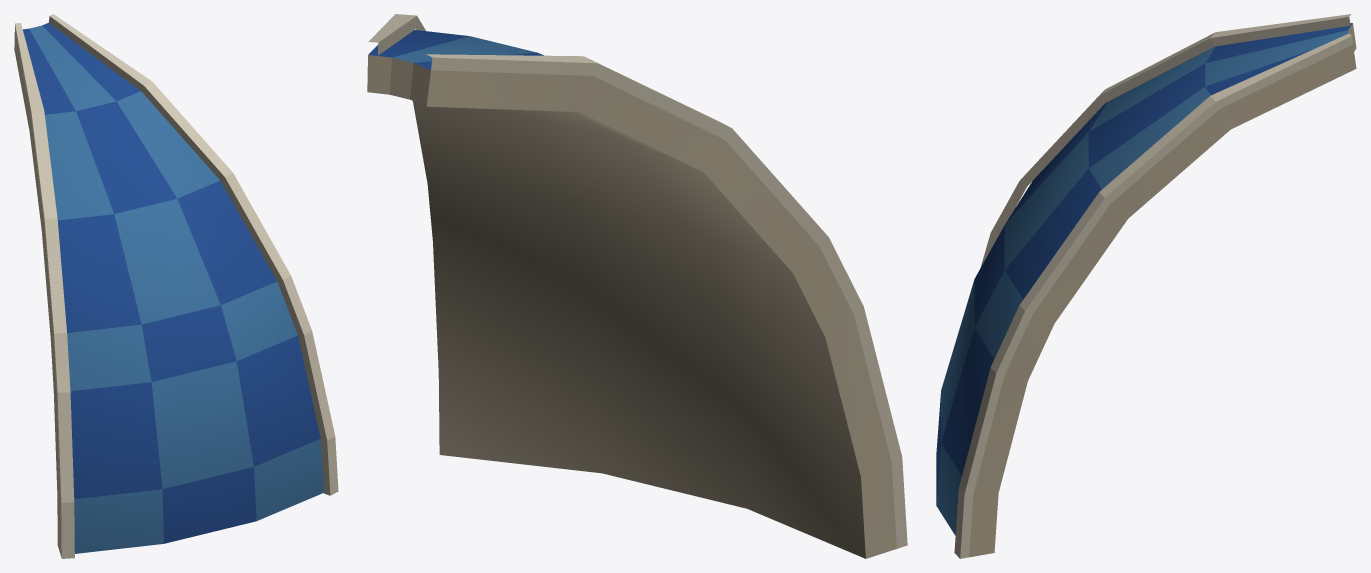
Rendered from dome.panel_8.blue.glb.
3 views of the same model, side by side, from view 1: azimuth 30°, elevation 25°; view 2: azimuth 150°, elevation 25°; view 3: azimuth 270°, elevation 25° (orthographic). The views are drawn at different scales.
Parts seen in each view (by area): view 1: dome_panel_8_blue; view 2: dome_panel_8_blue; view 3: dome_panel_8_blue.
Part boxes in pixels (<box>): dome_panel_8_blue: <box>14,14,338,558</box>; dome_panel_8_blue: <box>367,14,907,558</box>; dome_panel_8_blue: <box>936,14,1356,558</box>.
Size of what is drawn, in the model's own units: 2.73 by 3.63 by 3.05.
